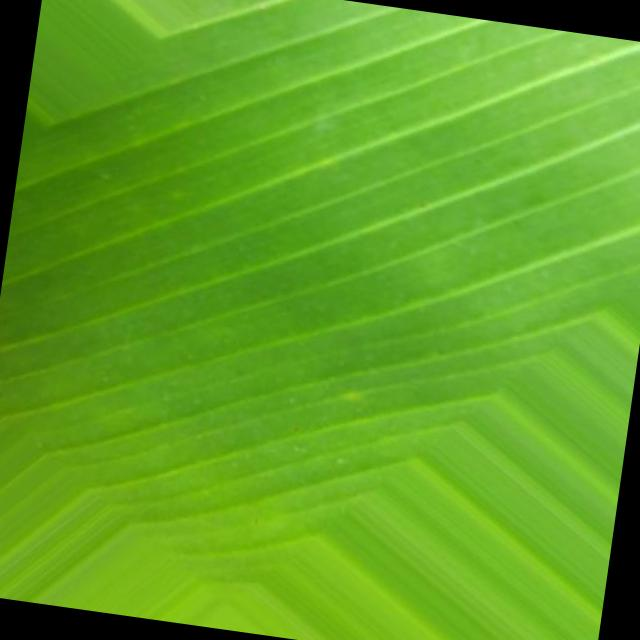Banana_Healthy: (92, 58, 524, 458)
